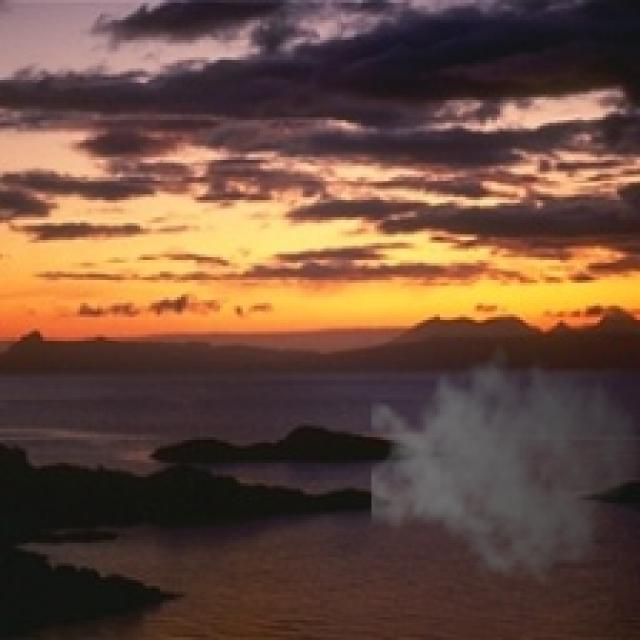Smoke: (372, 332, 637, 592)
